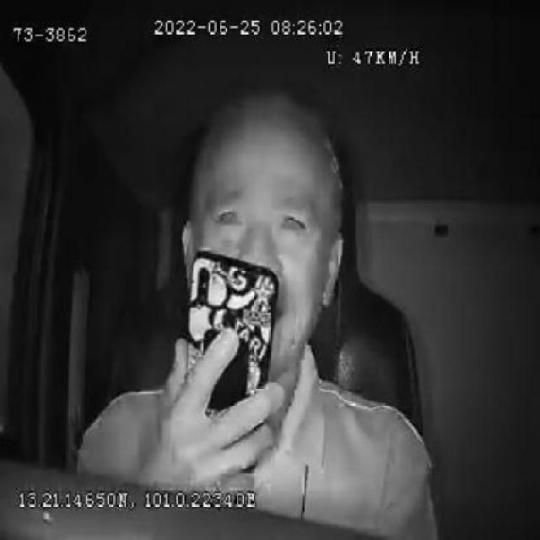phone: (182, 252, 272, 466)
